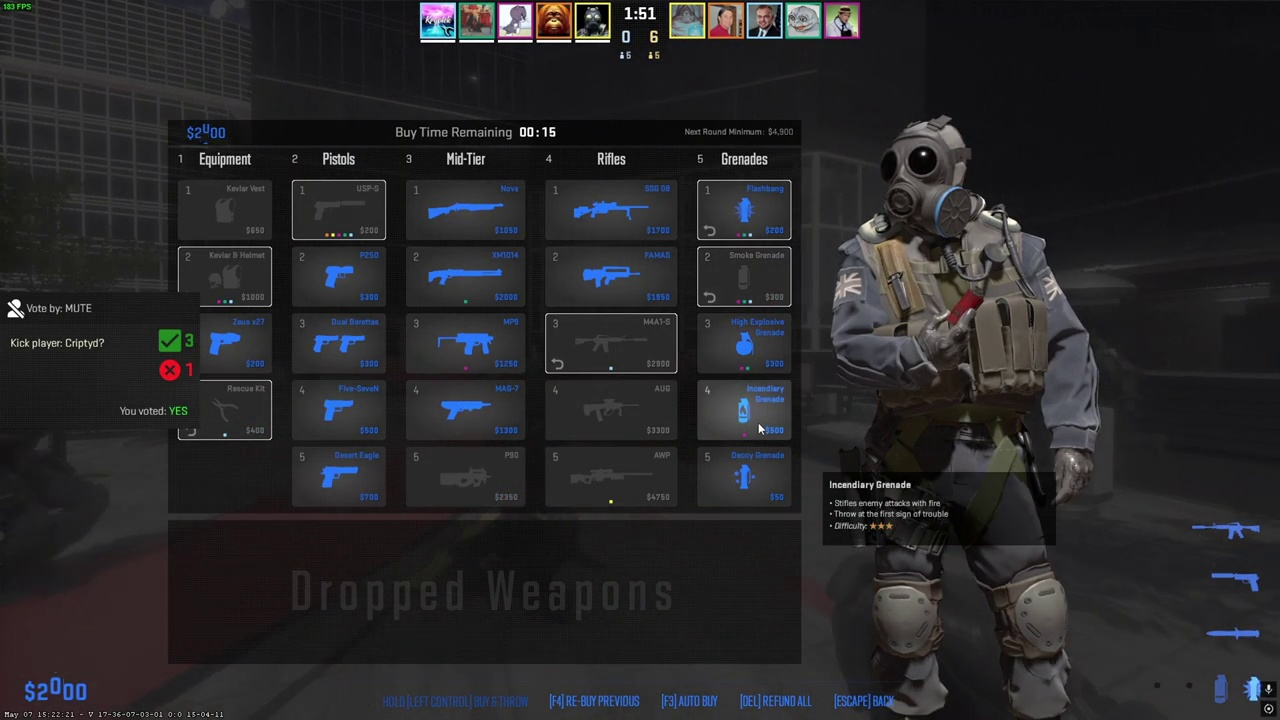CT: (854, 122, 1076, 720)
